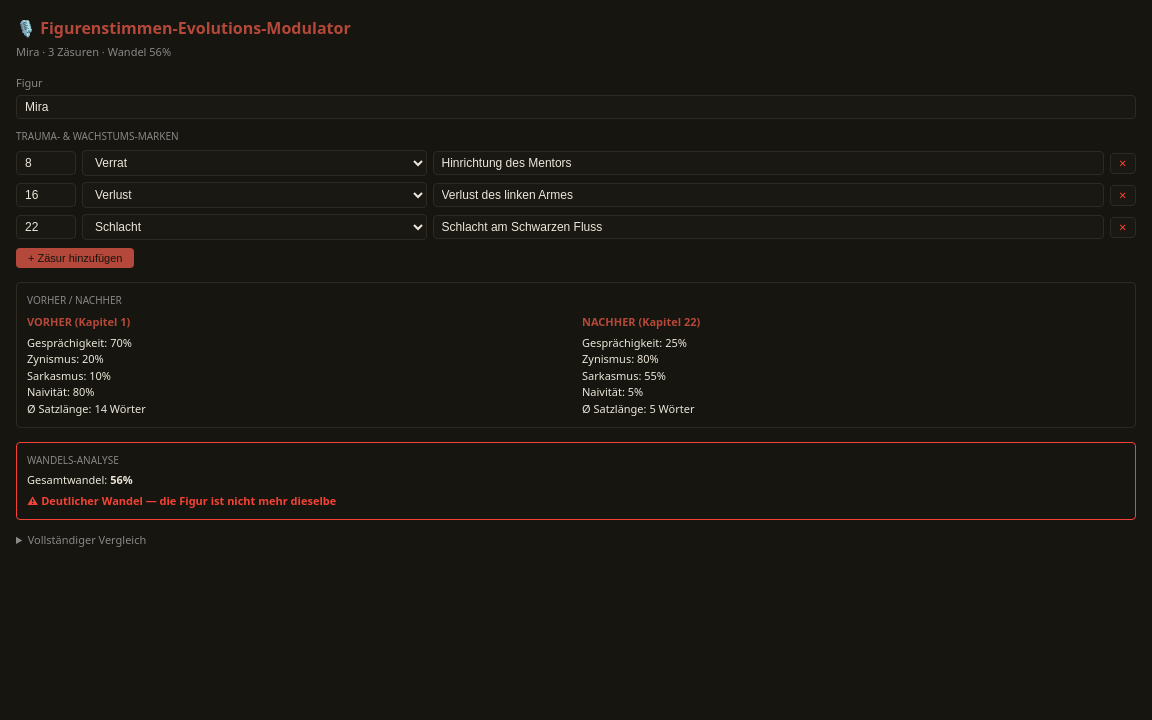
CharacterVoiceEvolutionModal › entfernt eine Zäsur
Click the button with test id "voice-trauma-remove-0" at coordinates (1123, 163), box top-left (1110, 152), bottom-right (1136, 174)
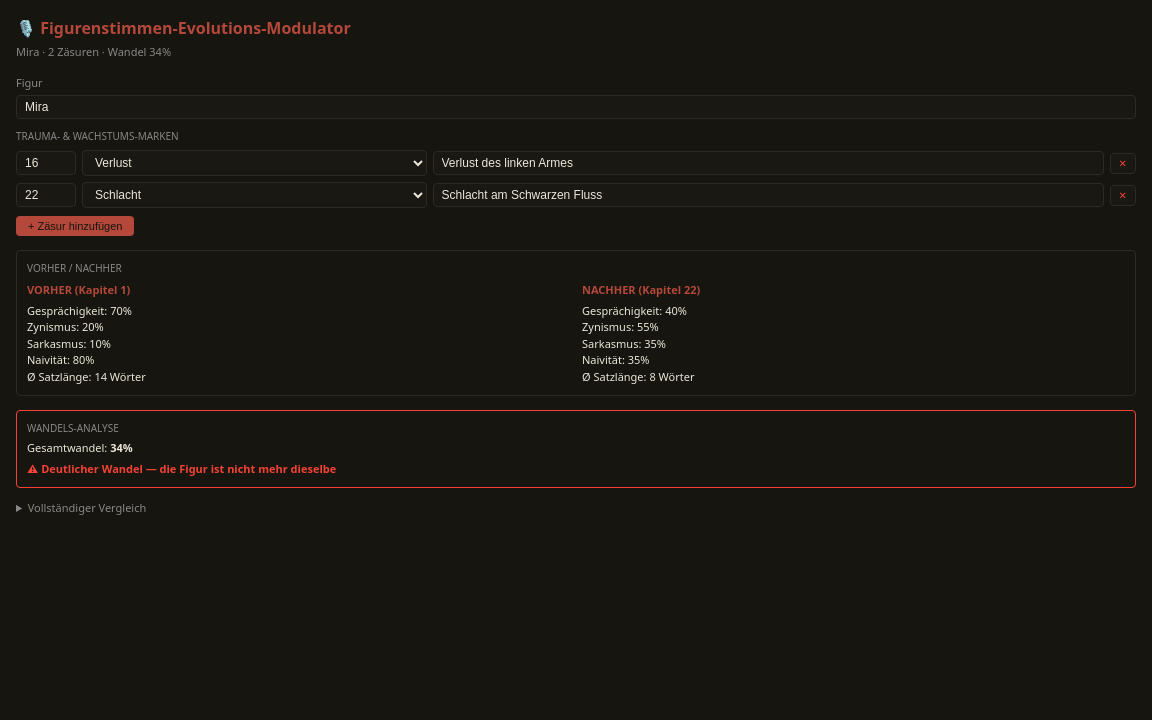
Result: the element with test id "voice-trauma-2" is gone
